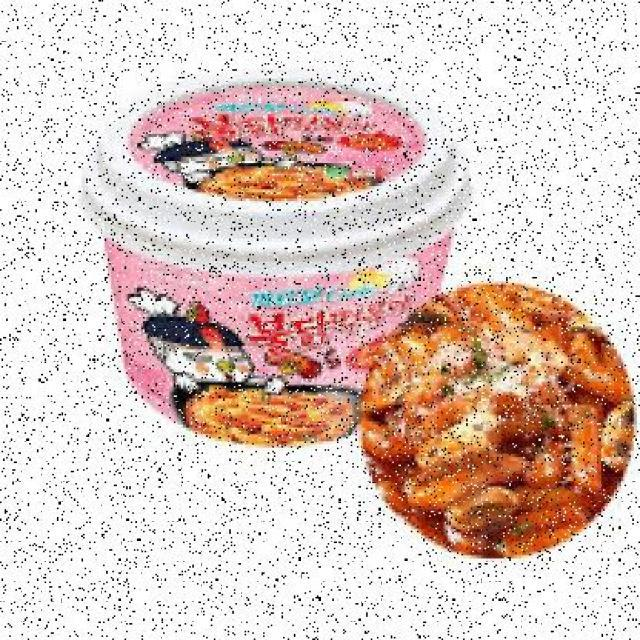Miscellaneous: (79, 66, 476, 452)
